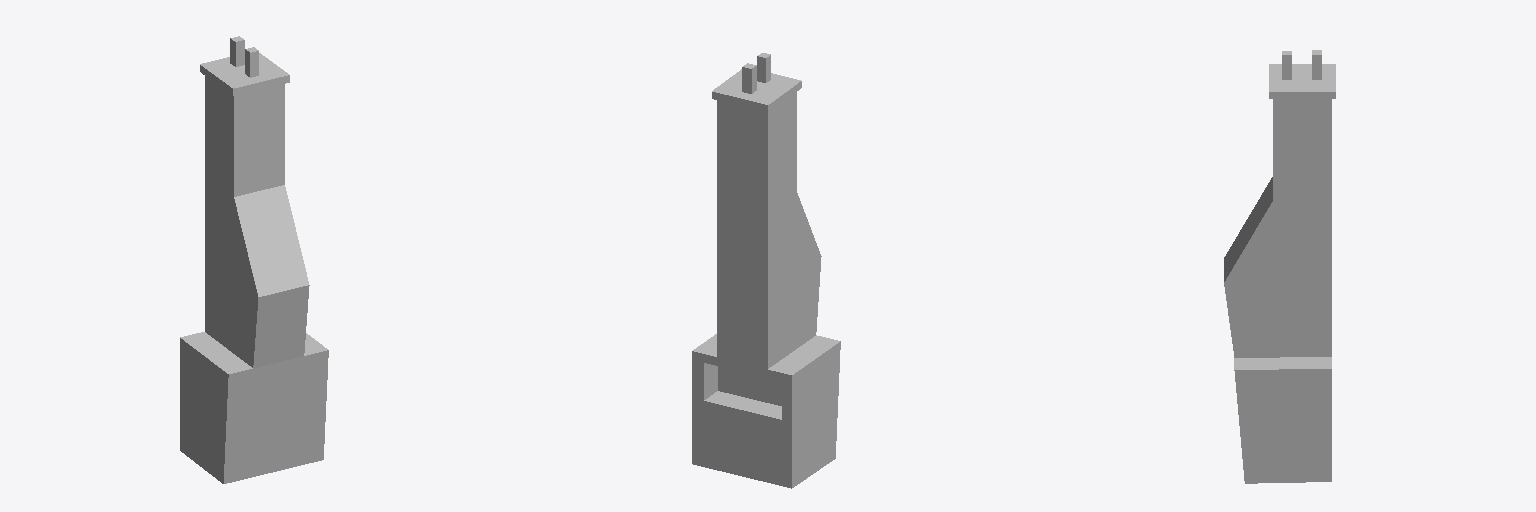
File: Furnace.obj
3 views of the same model, side by side, from view 1: azimuth 30°, elevation 25°; view 2: azimuth 150°, elevation 25°; view 3: azimuth 270°, elevation 25° (orthographic).
Visible parts, largest first — view 1: pCube16; view 2: pCube16; view 3: pCube16.
Boxes of the visible parts, x1,y1,x2,y2 form: pCube16: [180, 36, 328, 483]; pCube16: [692, 53, 840, 488]; pCube16: [1224, 50, 1335, 483].
Size of the model in its own units: 3.96 by 15.35 by 3.83.